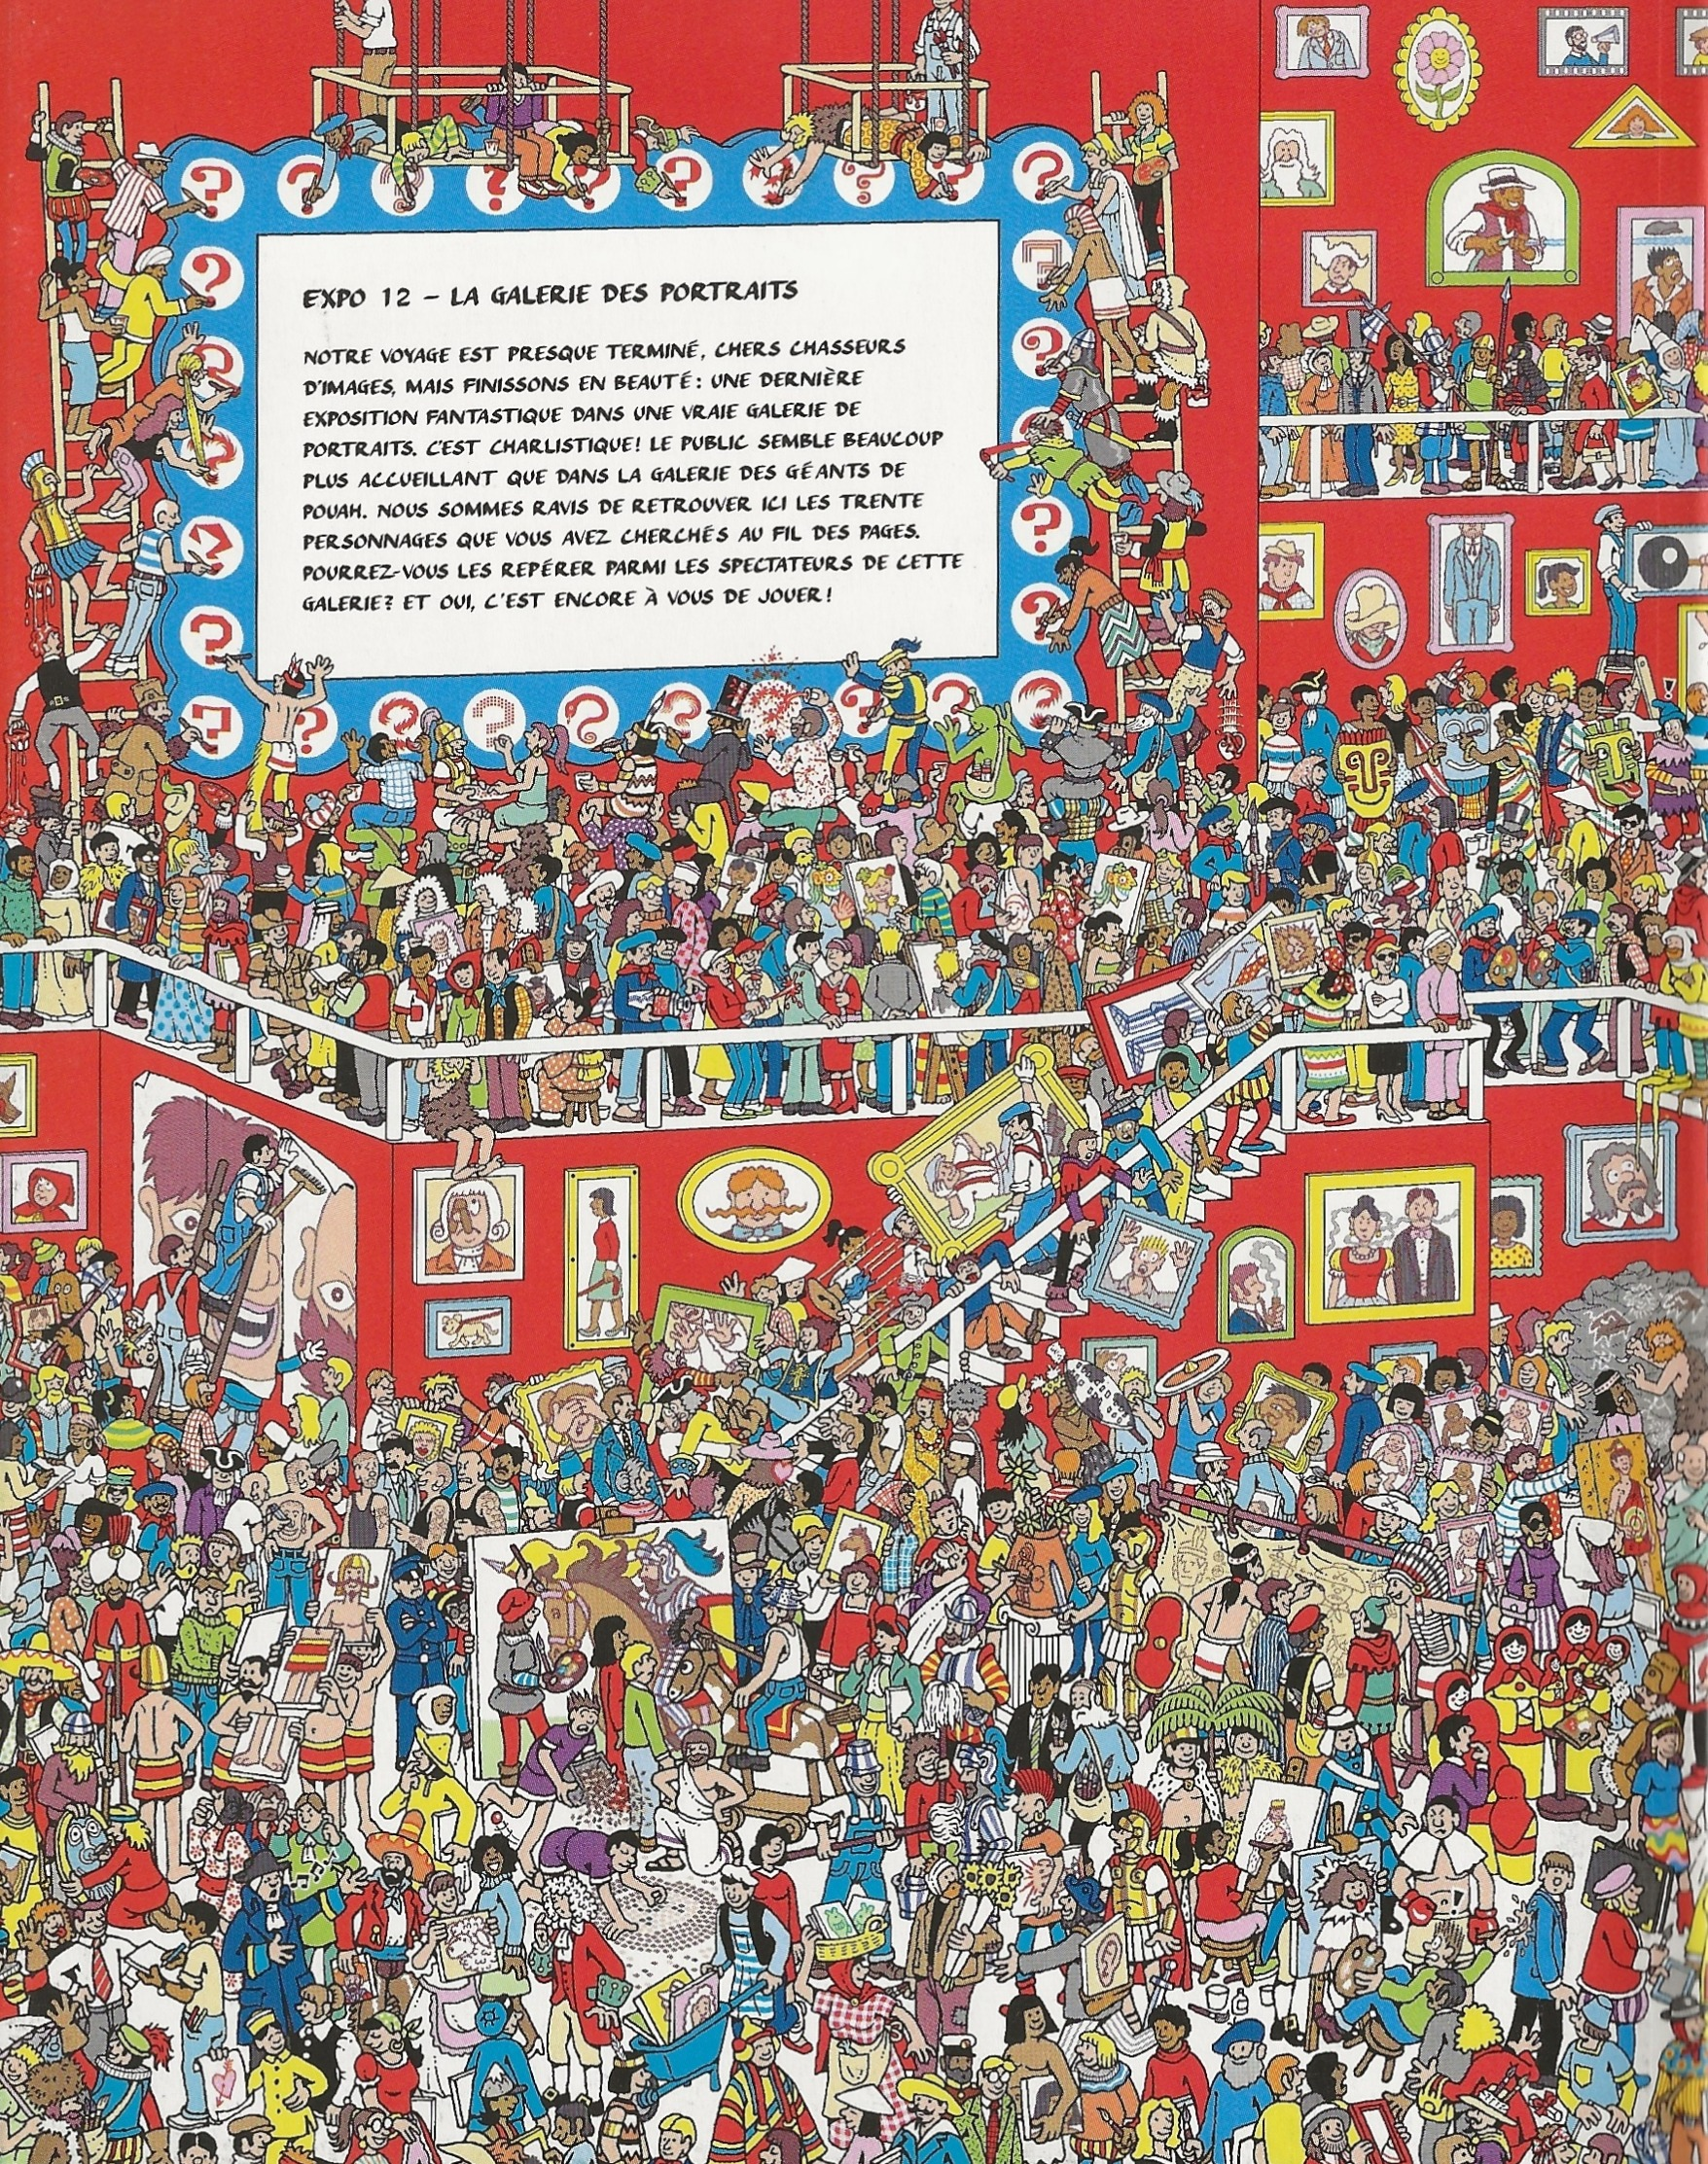Odlaw: (427, 1577, 474, 1653)
